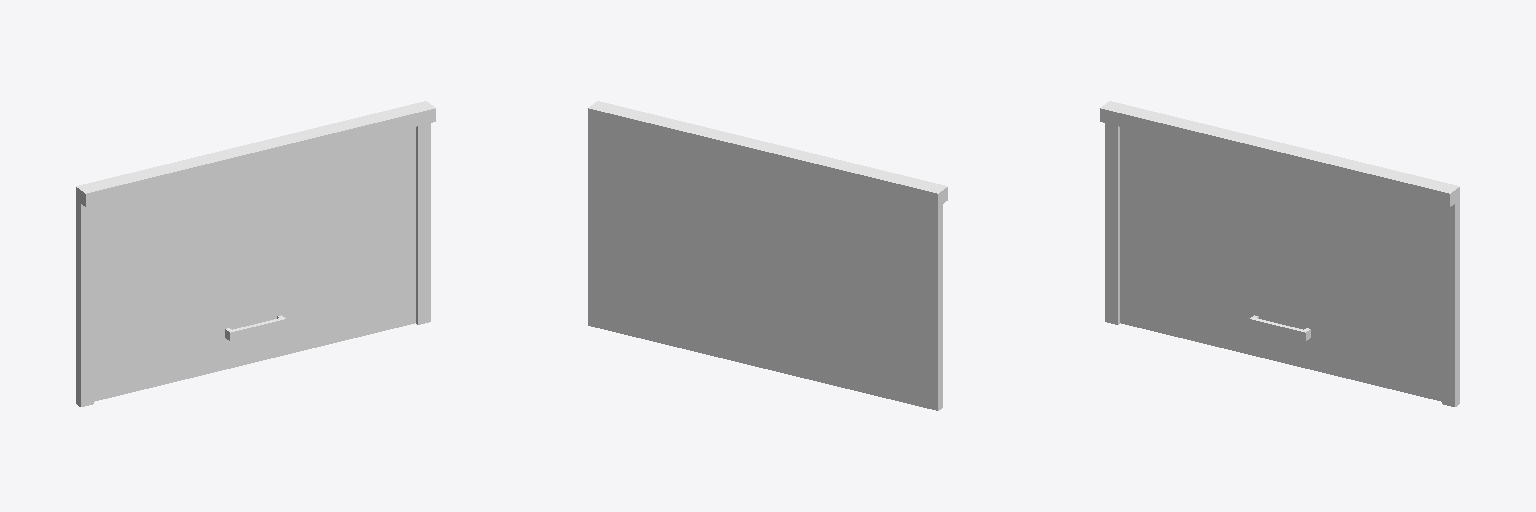
Rendered from VoxelNuke-1-GarageDoor.obj.
3 renders of one model, left to right at view 1: azimuth 30°, elevation 25°; view 2: azimuth 150°, elevation 25°; view 3: azimuth 330°, elevation 25°, orthographic.
Parts seen in each view (by area): view 1: GarageDoor; view 2: GarageDoor; view 3: GarageDoor.
Boxes of the visible parts, x1,y1,x2,y2 form: GarageDoor: [76, 101, 435, 406]; GarageDoor: [588, 101, 947, 410]; GarageDoor: [1100, 101, 1459, 406].
Size of the model in its own units: 1.62 by 0.96 by 0.08.